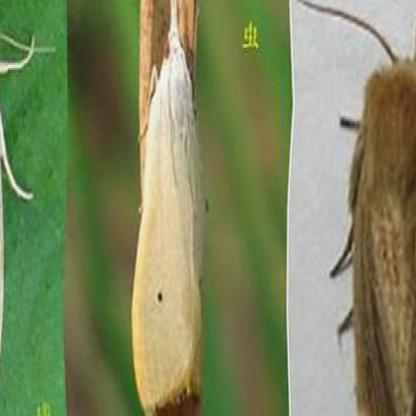stem-borer: (128, 0, 206, 416)
